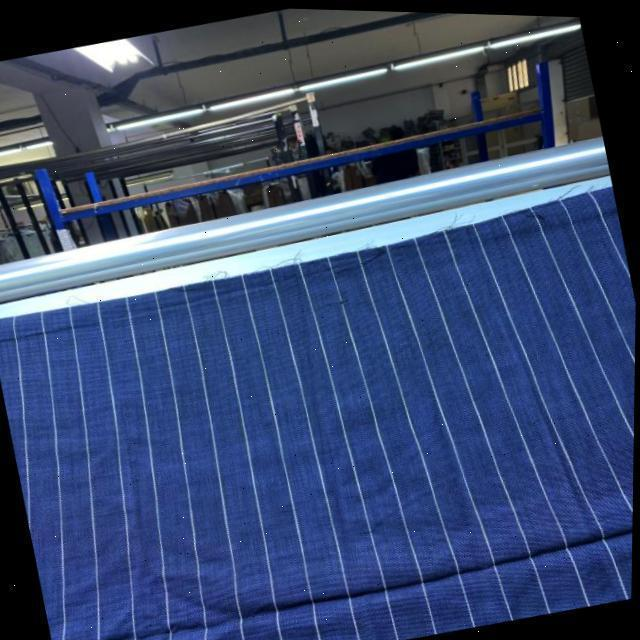broken_yarn: (75, 519, 634, 640)
